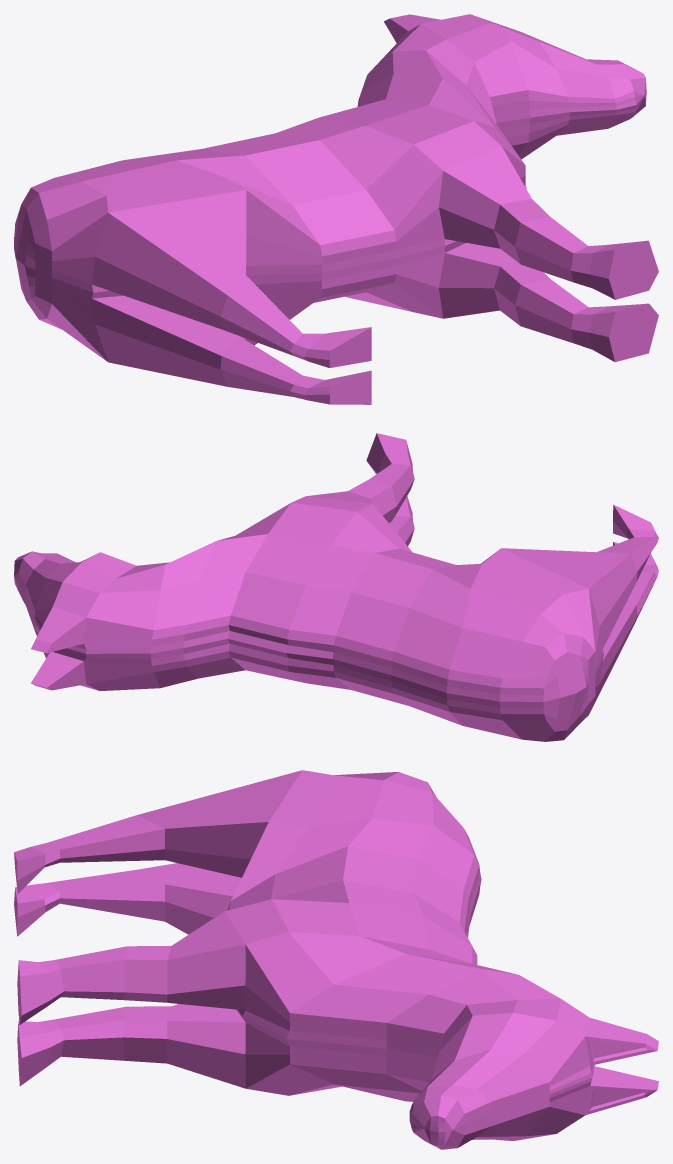
Rendered from pony plane v1_12_furry.fbx.
3 views of the same model, one above another, from view 1: azimuth 30°, elevation 25°; view 2: azimuth 150°, elevation 25°; view 3: azimuth 270°, elevation 25° (orthographic). The views are drawn at different scales.
Visible parts, largest first — view 1: Plane; view 2: Plane; view 3: Plane.
Part boxes in pixels (x1,y1,x2,y2): Plane: (14, 14, 658, 404); Plane: (14, 433, 658, 741); Plane: (14, 770, 658, 1149).
Bounding box in the file's own units: 266 × 65.99 × 236.
